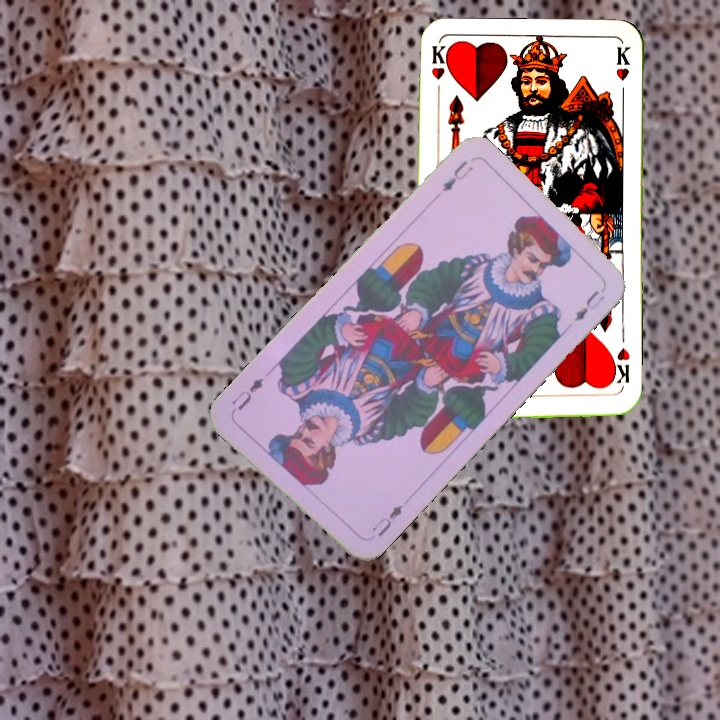EU: (367, 500, 406, 540), (438, 156, 476, 195)
HK: (427, 43, 450, 102), (606, 343, 633, 393)
